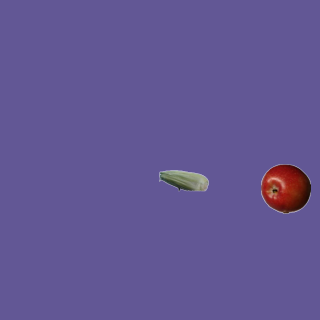Apple Braeburn: (260, 163, 310, 213)
Corn Husk: (158, 155, 208, 205)
